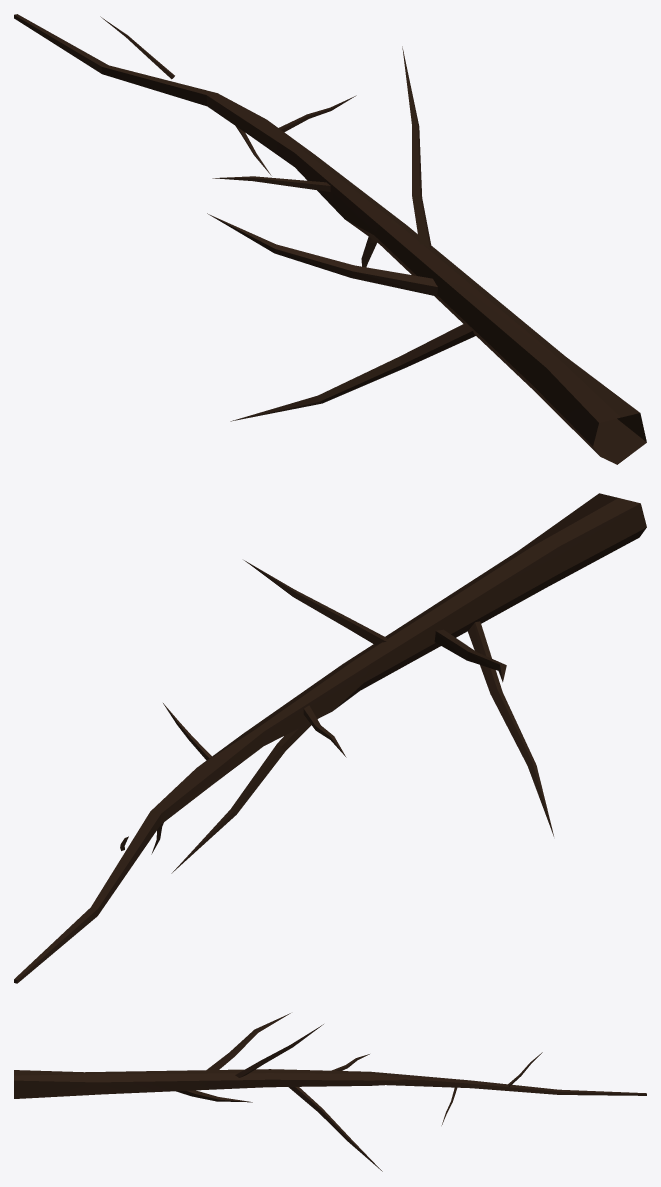
File: Tree_03.FBX
3 views of the same model, one above another, from view 1: azimuth 30°, elevation 25°; view 2: azimuth 150°, elevation 25°; view 3: azimuth 270°, elevation 25° (orthographic). The views are drawn at different scales.
Parts seen in each view (by area): view 1: Tree_03; view 2: Tree_03; view 3: Tree_03.
Part boxes in pixels (box(x1,y1,x2,y2)): Tree_03: box(14, 14, 646, 464); Tree_03: box(14, 493, 646, 983); Tree_03: box(14, 1013, 646, 1171).
Size of the model in its own units: 4.04 by 4.11 by 16.22.
